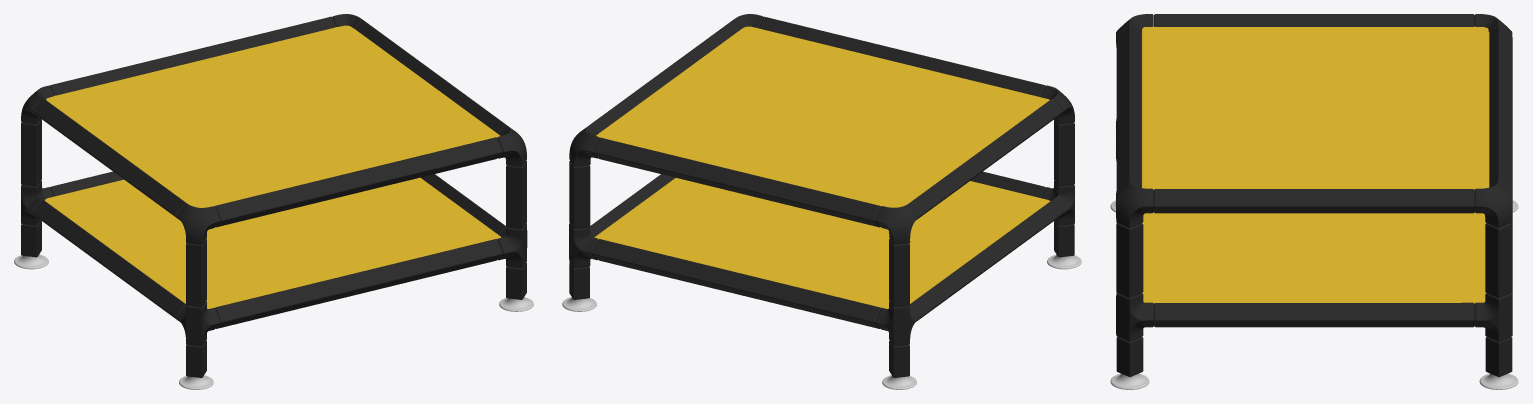
3 renders of one model, left to right at view 1: azimuth 30°, elevation 25°; view 2: azimuth 150°, elevation 25°; view 3: azimuth 270°, elevation 25°, orthographic. The views are drawn at different scales.
Visible parts, largest first — view 1: 374x329x79; view 2: 374x329x79; view 3: 374x329x79.
Boxes of the visible parts, x1,y1,x2,y2 form: 374x329x79: [14, 14, 533, 389]; 374x329x79: [562, 14, 1081, 389]; 374x329x79: [1110, 14, 1518, 389].
Size of the model in its own units: 0.4639 by 0.2183 by 0.4182.
